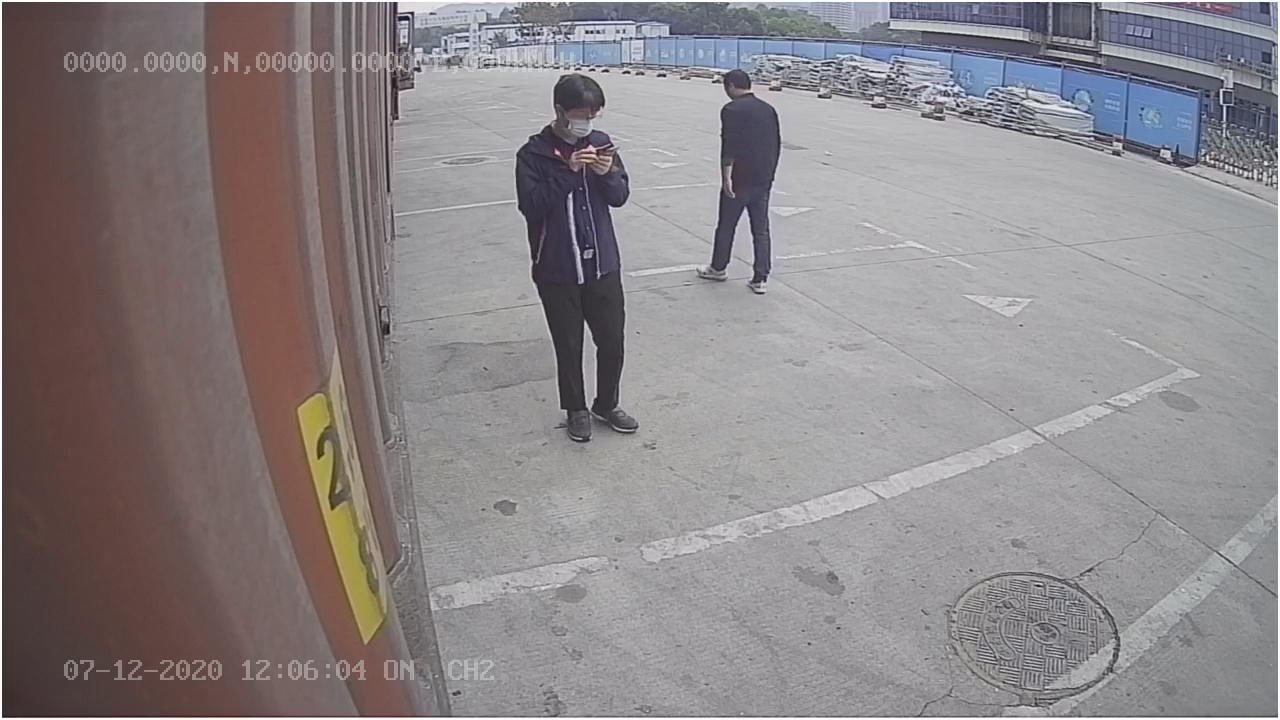person: (510, 69, 641, 445), (695, 62, 782, 299)
